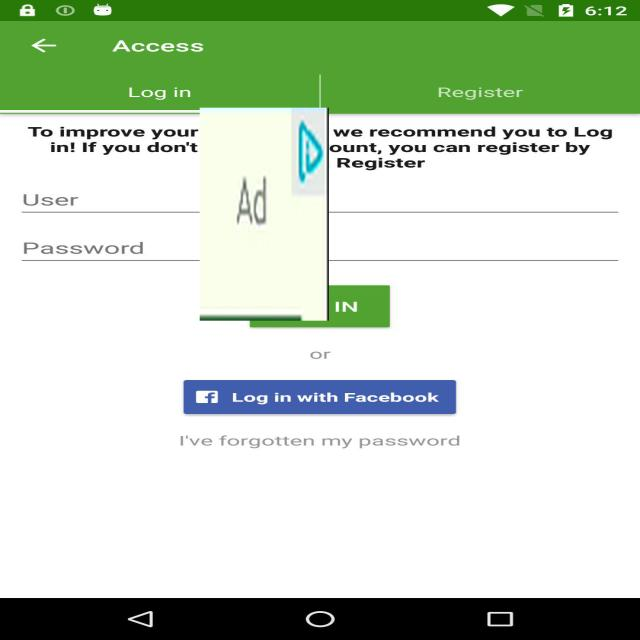sneaking: (200, 107, 329, 320)
